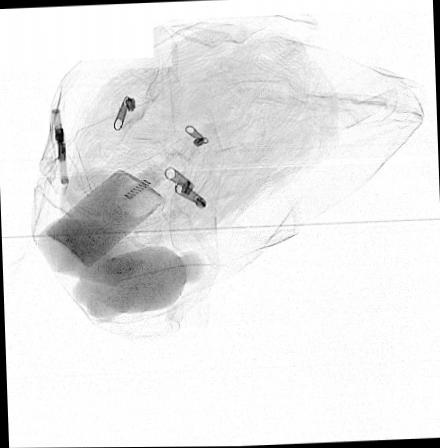Scissors: (50, 106, 66, 182)
